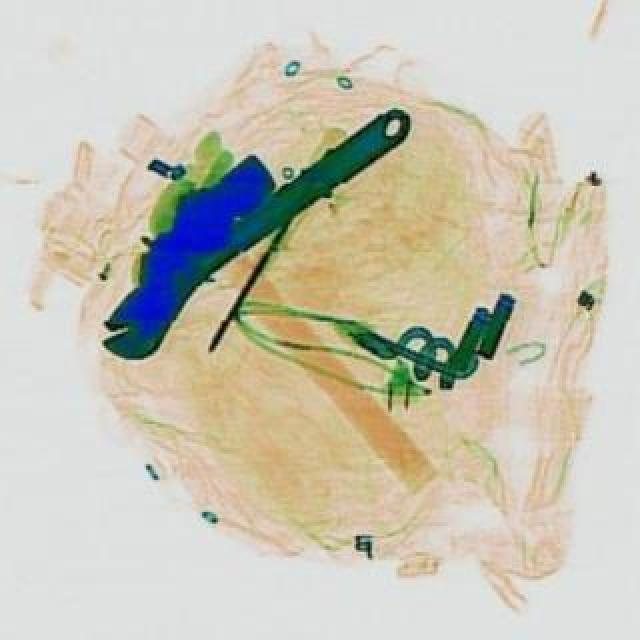scissors: (78, 90, 430, 370)
